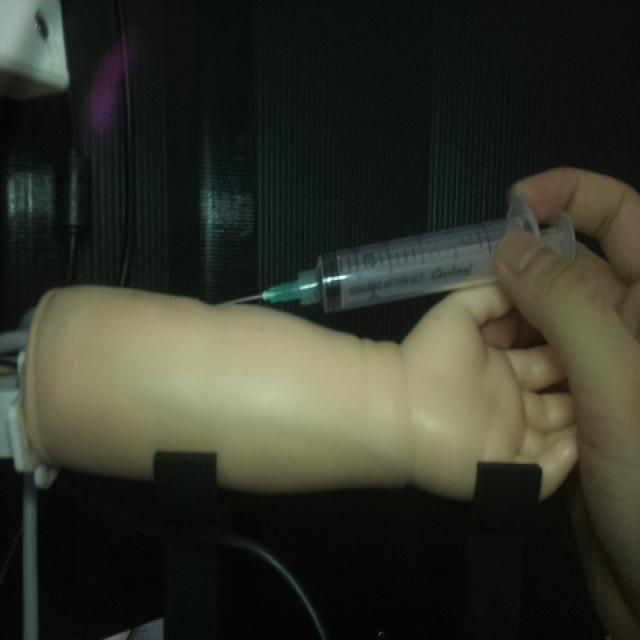Outside: (214, 187, 577, 316)
